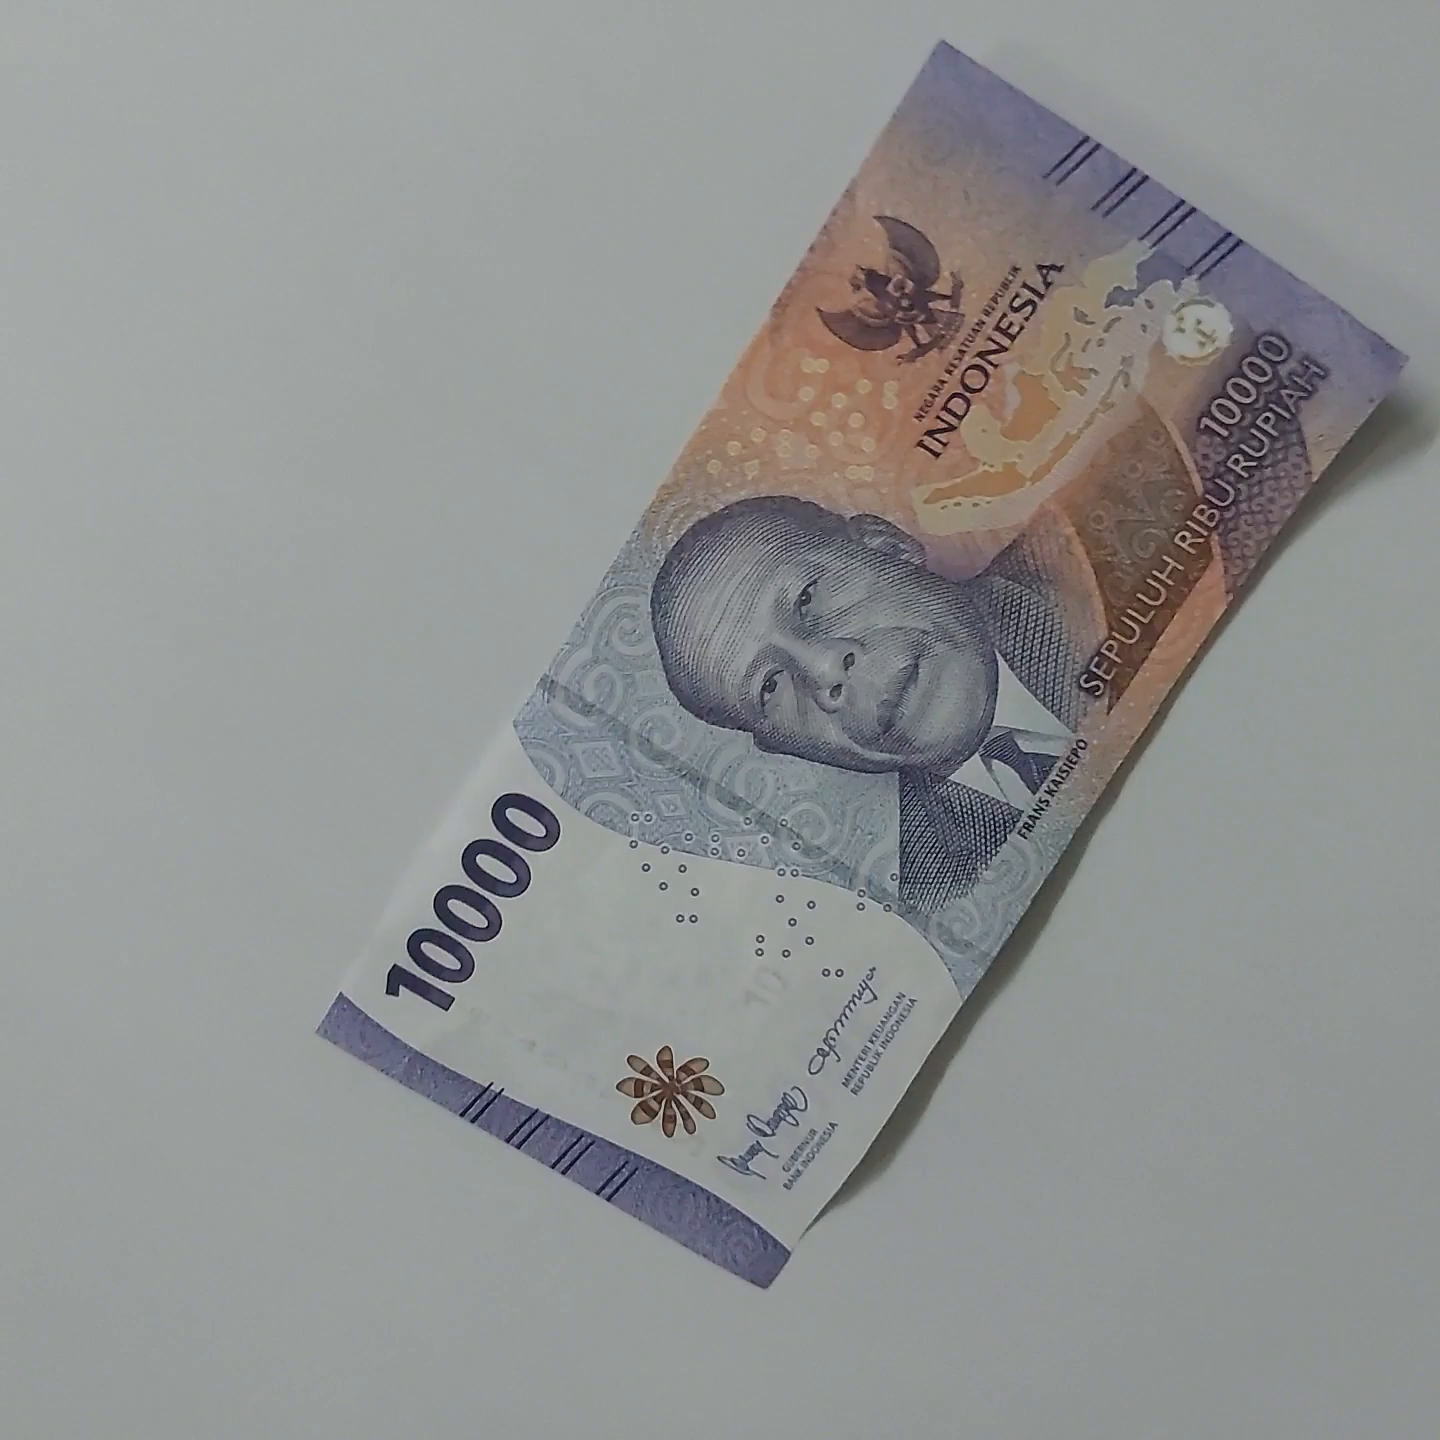10k: (928, 33, 1440, 1192)
